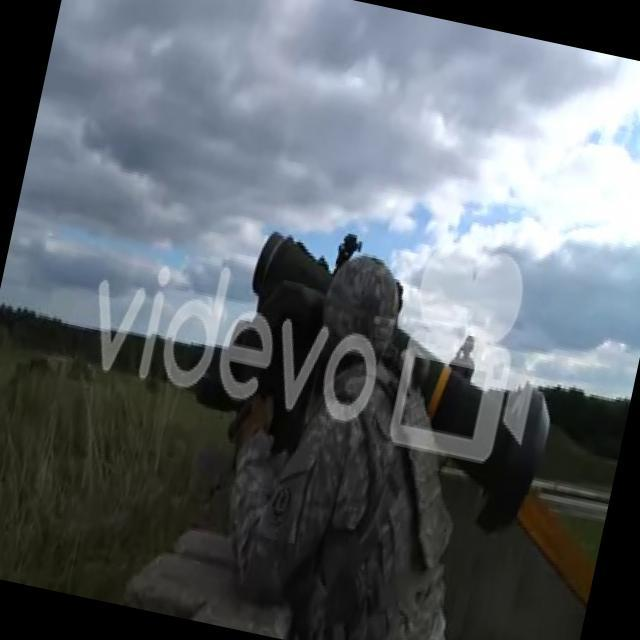rocket: (211, 228, 571, 534)
